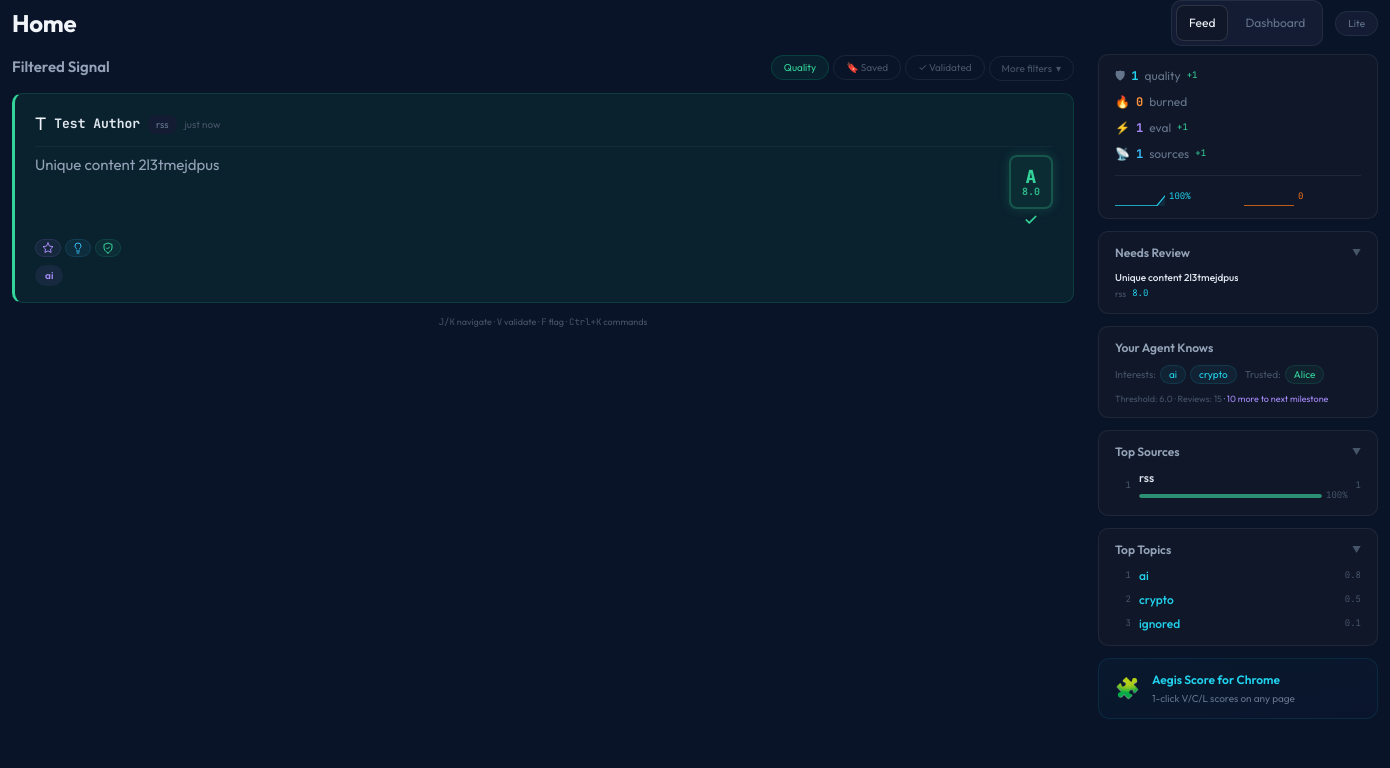
Test: More Filters dropdown › opens dropdown on click
What coordinates should you click on to do the following:
click the button with test id "aegis-filter-more"
I would click on:
 (1031, 68)
Its box is x1=989 y1=56 x2=1074 y2=81.
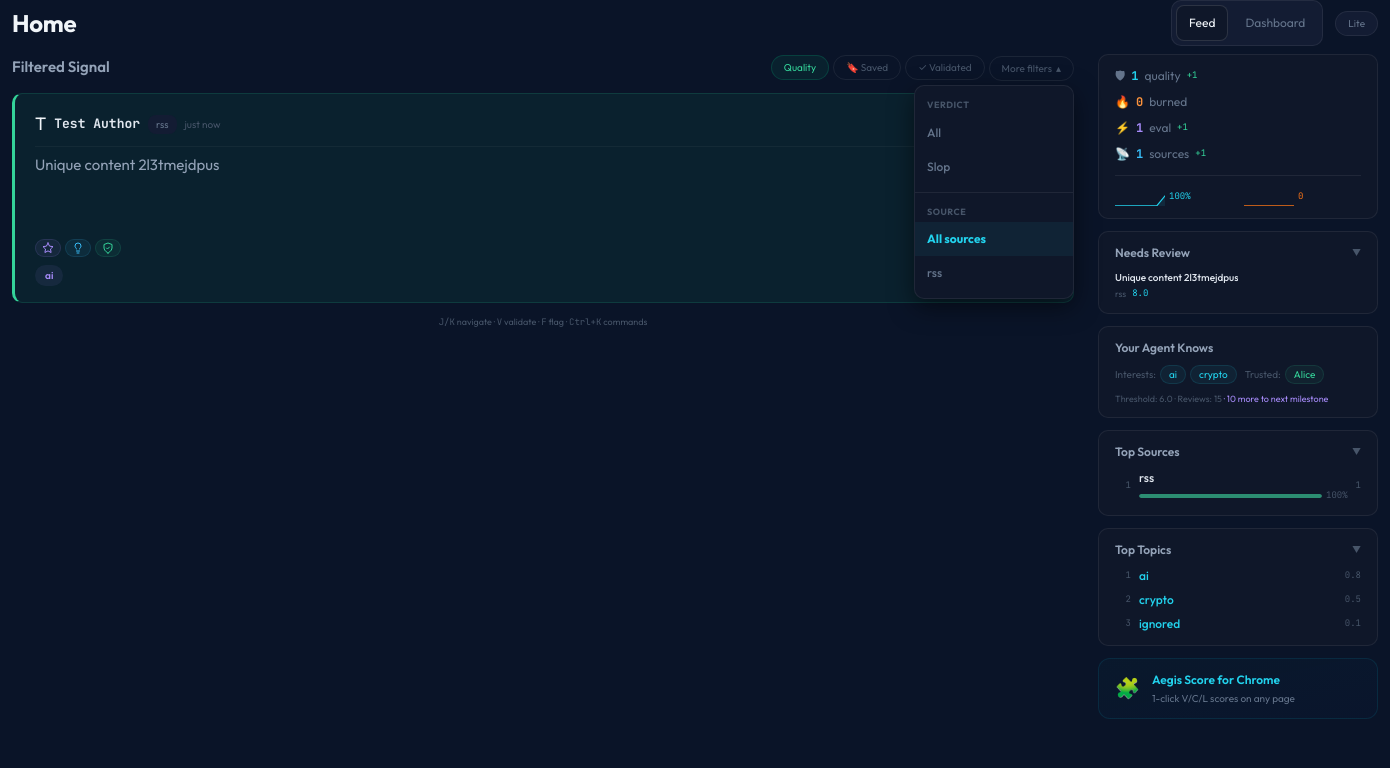
Expected: the menu with test id "aegis-filter-more-panel" is shown, x1=914 y1=85 x2=1074 y2=299
